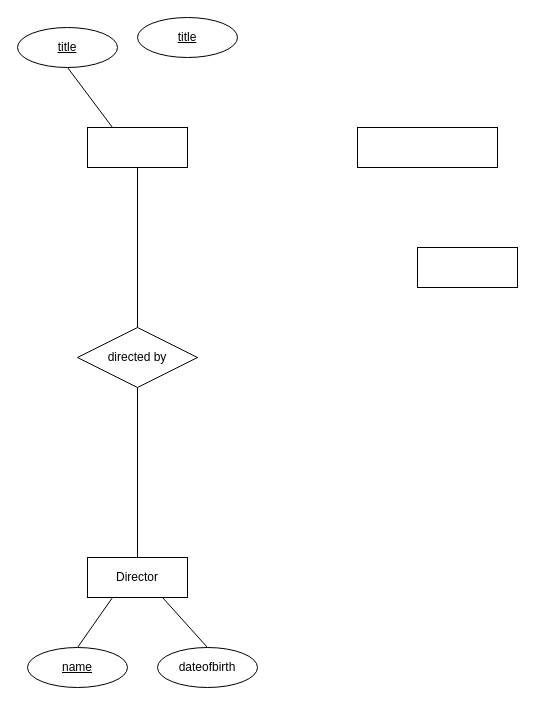
This 535x705 diagram has some shape labels left out. The shapes that lost their labels are listed below. From the top down, each one's centre as x and y in pixels, then its label:
At (137,147): "Movie".
At (427,147): "ProductionCompany".
At (467,267): "Actor".
